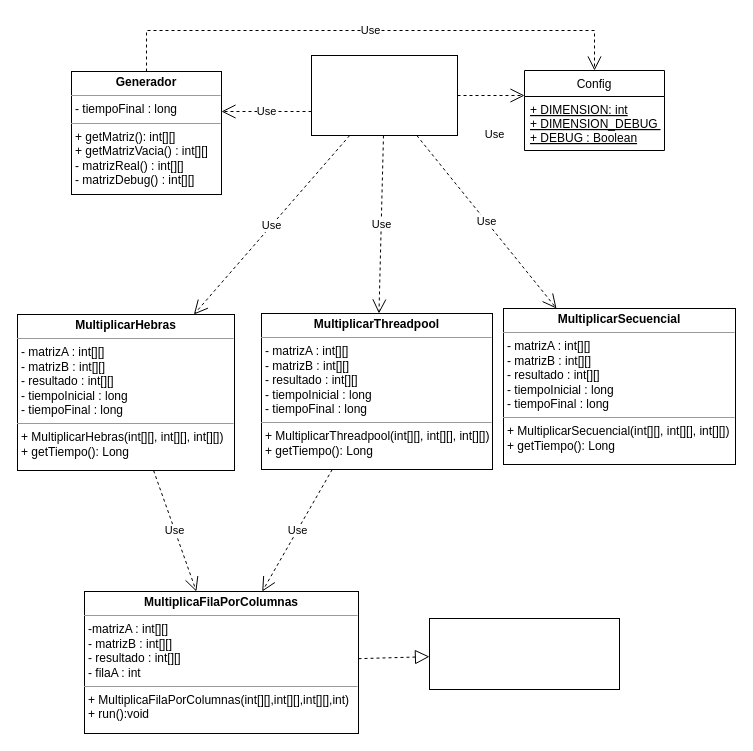
The diagram is 753 pixels wide and 751 high, and some of its shapes have lost their labels. The shapes that lost their labels are listed below. From the top down, each one's centre as x and y in pixels, then its label:
[384,95]: MainReto5B + main ()
[524,654]: <<Interface>> Runnable + run(): Void
